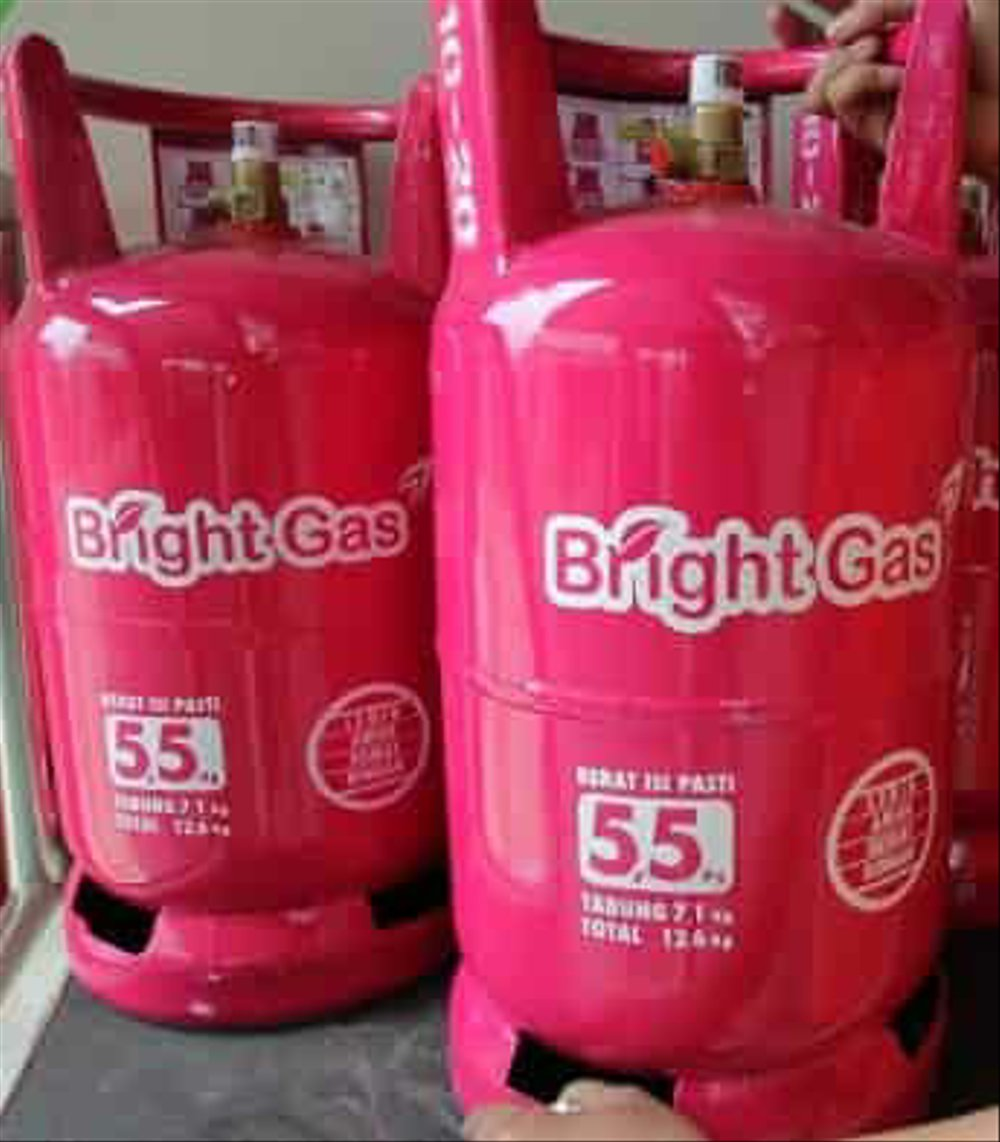bright_gas: (429, 3, 1000, 1142), (1, 31, 477, 1038)
